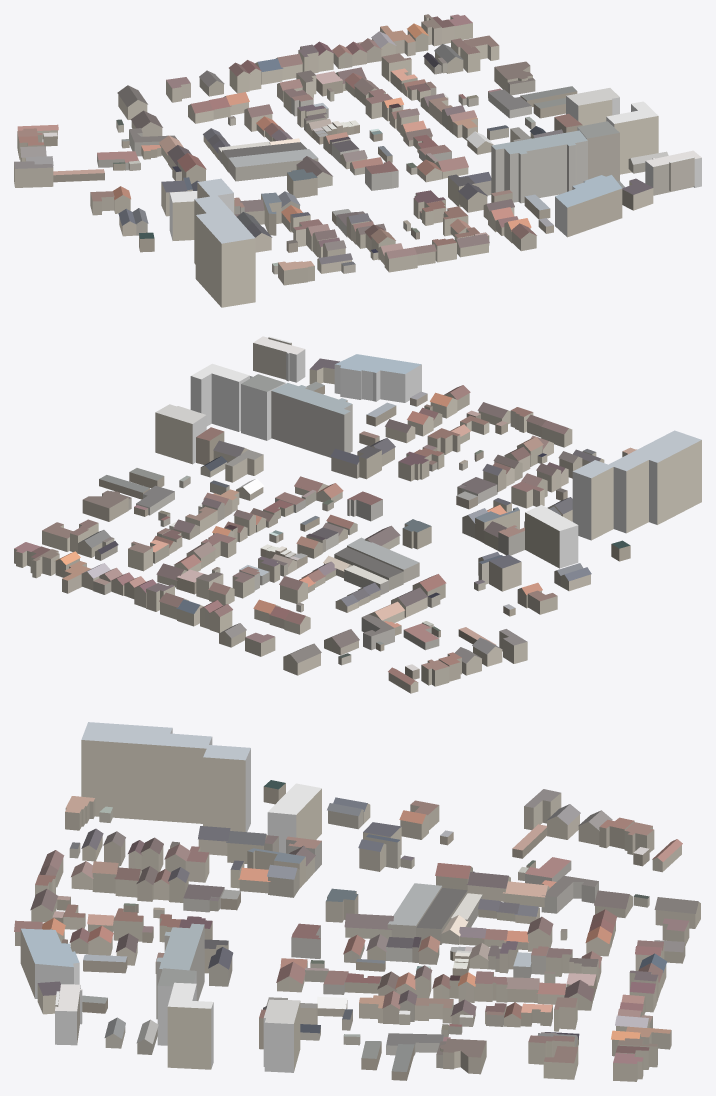
3 views of the same model, one above another, from view 1: azimuth 30°, elevation 25°; view 2: azimuth 150°, elevation 25°; view 3: azimuth 270°, elevation 25° (orthographic). The views are drawn at different scales.
Parts seen in each view (by area): view 1: tuile; view 2: tuile; view 3: tuile.
Boxes of the visible parts, left/top/right/bottom form: tuile: left=14, top=14, right=701, bottom=307; tuile: left=14, top=336, right=701, bottom=693; tuile: left=14, top=722, right=700, bottom=1081.
Size of the model in its own units: 259 by 45.09 by 262.
